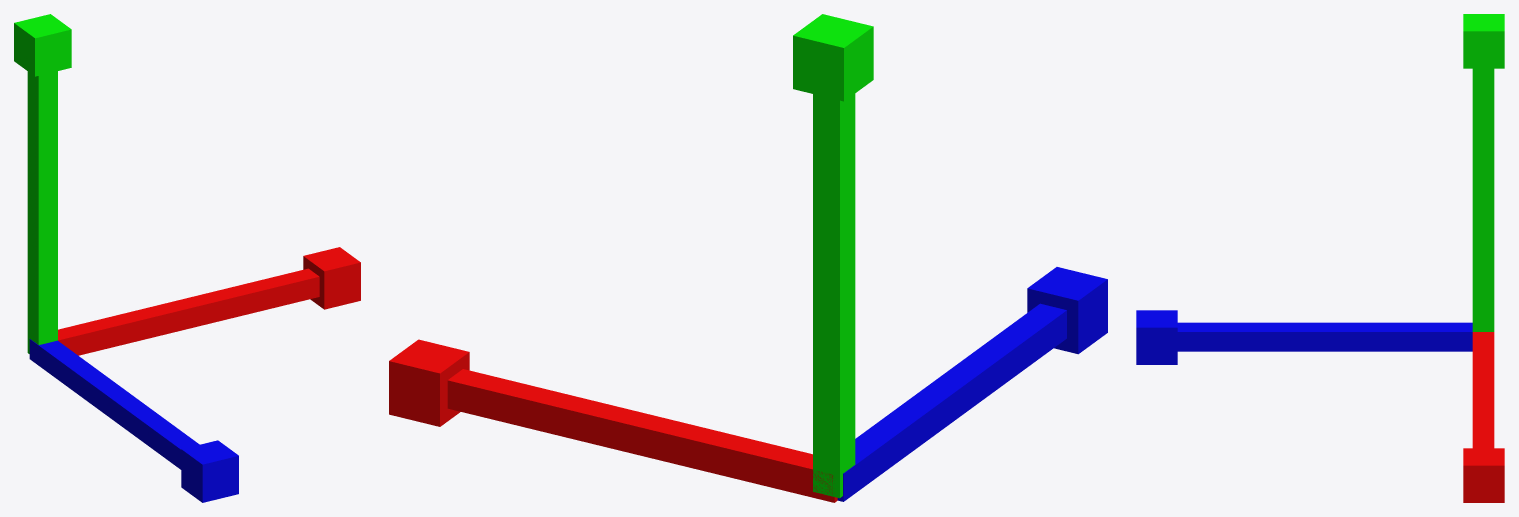
The model's file is Giz_esc_x.obj.
3 views of the same model, side by side, from view 1: azimuth 30°, elevation 25°; view 2: azimuth 150°, elevation 25°; view 3: azimuth 270°, elevation 25° (orthographic). The views are drawn at different scales.
Parts seen in each view (by area): view 1: EjeY_Cubo, EjeX_Cubo.001, EjeZ_Cubo.002; view 2: EjeY_Cubo, EjeX_Cubo.001, EjeZ_Cubo.002; view 3: EjeZ_Cubo.002, EjeY_Cubo, EjeX_Cubo.001.
Boxes of the visible parts, box(x1,y1,x2,y2) form: EjeY_Cubo: box(14, 14, 71, 353); EjeX_Cubo.001: box(58, 247, 360, 355); EjeZ_Cubo.002: box(29, 339, 238, 502); EjeY_Cubo: box(793, 14, 873, 498); EjeX_Cubo.001: box(389, 339, 837, 502); EjeZ_Cubo.002: box(837, 267, 1107, 501); EjeZ_Cubo.002: box(1136, 310, 1472, 364); EjeY_Cubo: box(1463, 14, 1504, 331); EjeX_Cubo.001: box(1463, 332, 1504, 502).
Bounding box in the file's own units: 1.93 × 1.94 × 1.94.
